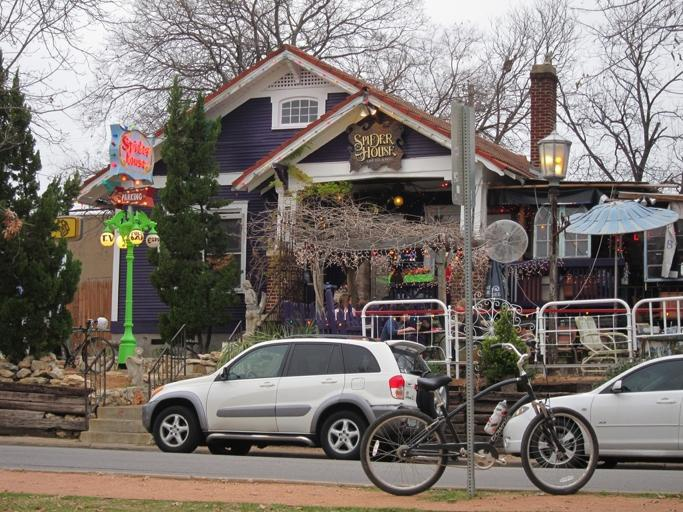non-vehicle: (360, 337, 602, 498), (54, 316, 115, 373)
